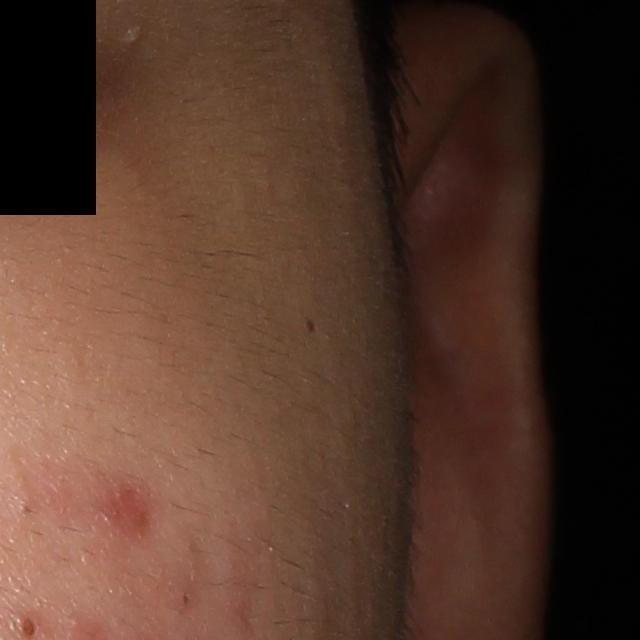nevus: (304, 318, 318, 334)
